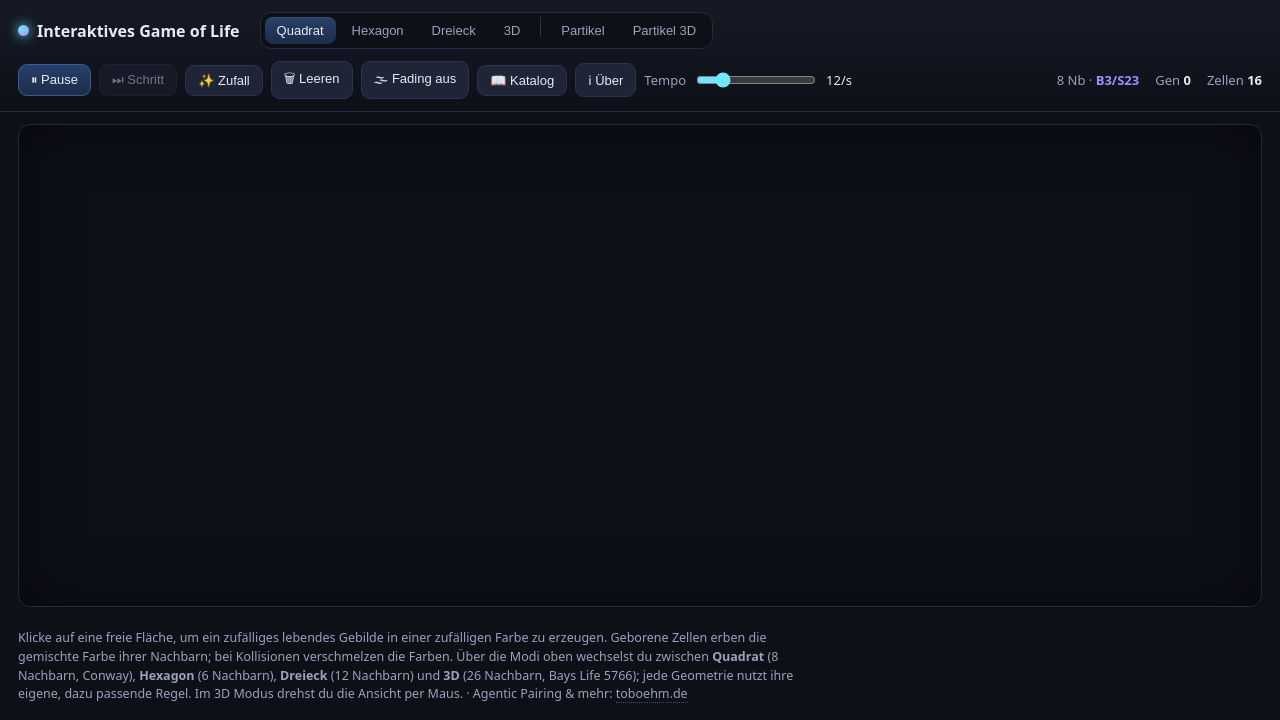
Test: App UI › toggles play/pause
What coordinates should you click on to do the following:
click the button "⏸ Pause"
I would click on:
 (54, 80)
Its box is [18,64,91,96].
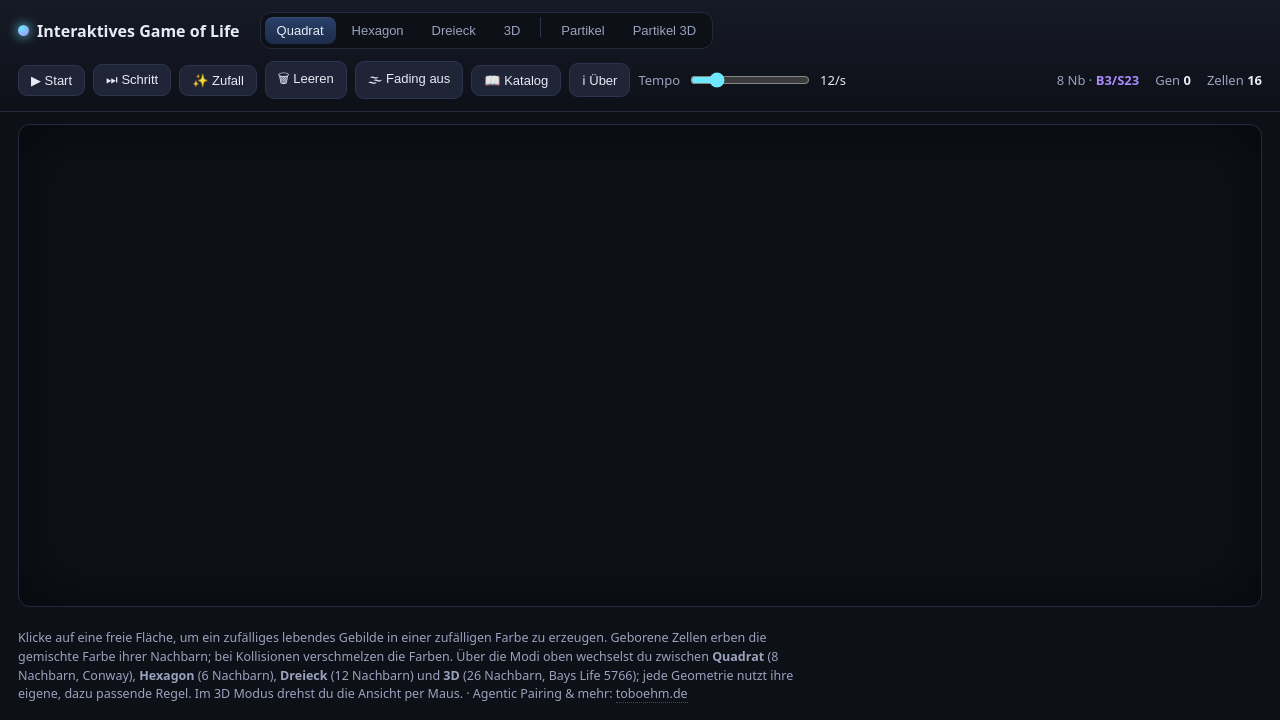
Expected: the button "▶ Start" is shown, [18,64,85,96]
